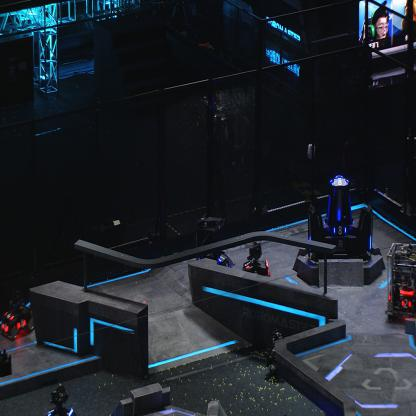car: (195, 211, 235, 276), (386, 240, 416, 322), (0, 287, 35, 341), (241, 242, 271, 283), (40, 384, 77, 416)
